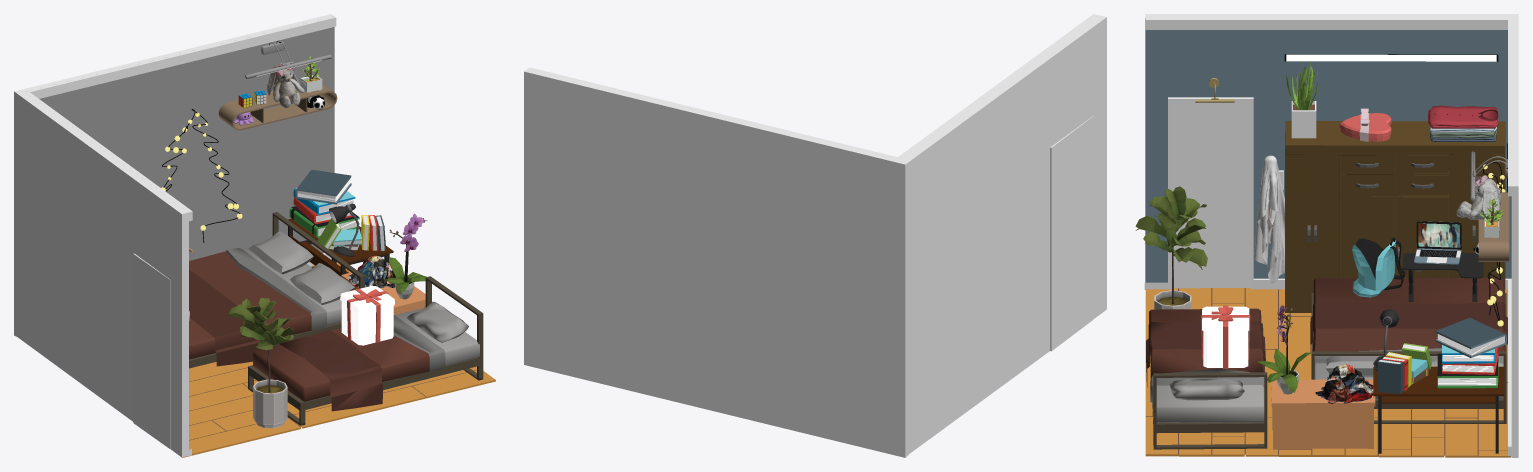
File: Newroom.glb
3 views of the same model, side by side, from view 1: azimuth 30°, elevation 25°; view 2: azimuth 150°, elevation 25°; view 3: azimuth 270°, elevation 25° (orthographic). The views are drawn at different scales.
Parts seen in each view (by area): view 1: Node.904, Bigpot, desk, Giftbox, Bunny, Booth, Wire_Tree; view 2: Node.904; view 3: Node.904, Booth, Bigpot, desk, Giftbox, Bulb144, Bunny, Laptop Screen.
Part boxes in pixels (left/top/right/bottom): Node.904: left=14, top=14, right=495, bottom=457; Bigpot: left=227, top=298, right=293, bottom=428; desk: left=347, top=213, right=427, bottom=299; Giftbox: left=340, top=285, right=394, bottom=345; Bunny: left=267, top=62, right=304, bottom=107; Booth: left=189, top=40, right=331, bottom=252; Wire_Tree: left=162, top=109, right=240, bottom=242; Node.904: left=524, top=14, right=1106, bottom=457; Node.904: left=1144, top=14, right=1518, bottom=457; Booth: left=1195, top=54, right=1507, bottom=283; Bigpot: left=1135, top=186, right=1207, bottom=309; desk: left=1257, top=305, right=1373, bottom=403; Giftbox: left=1202, top=306, right=1249, bottom=367; Bulb144: left=1286, top=54, right=1496, bottom=61; Bunny: left=1456, top=175, right=1501, bottom=219; Laptop Screen: left=1418, top=223, right=1460, bottom=247.
Size of the model in its own units: 4.05 by 2.98 by 3.8.
Materials: 18 (18 with a texture image).
